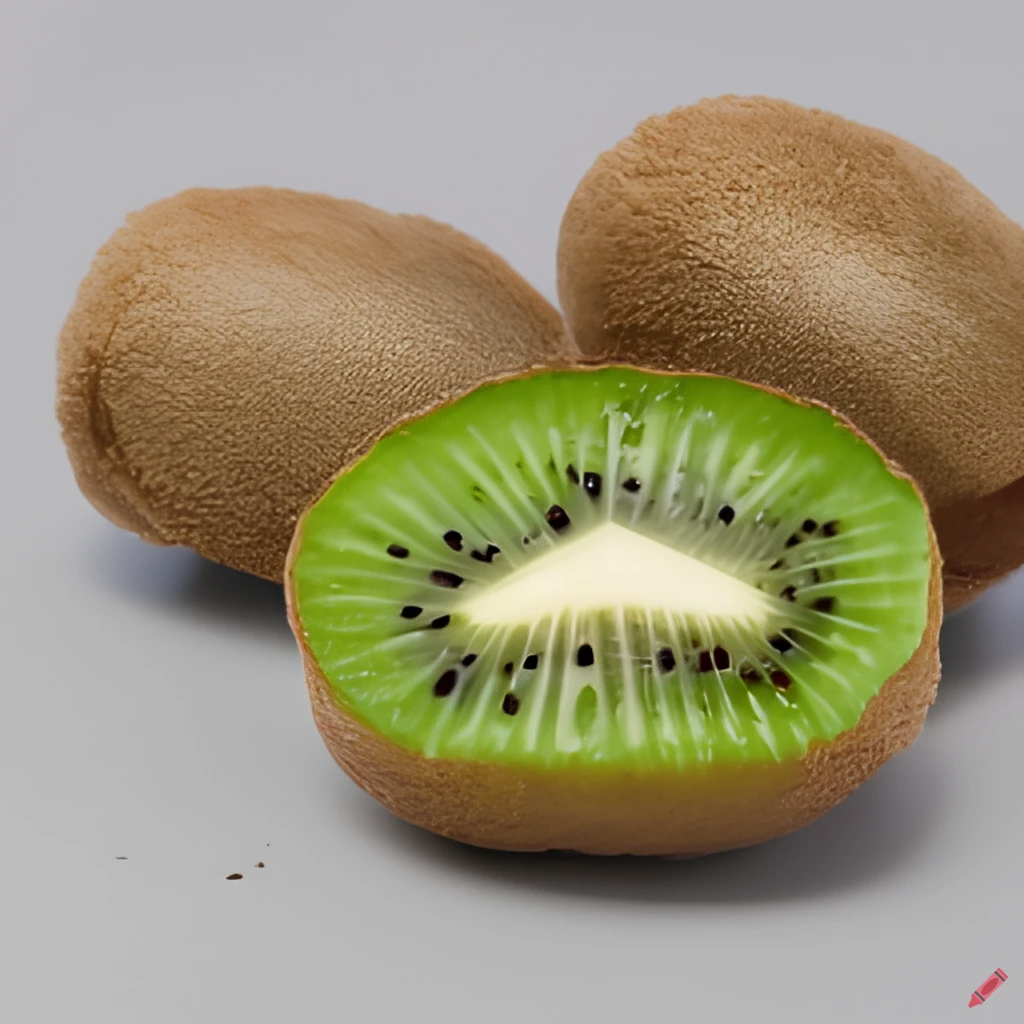Kiwi: (257, 338, 966, 886), (561, 69, 1024, 576), (38, 142, 583, 562)
